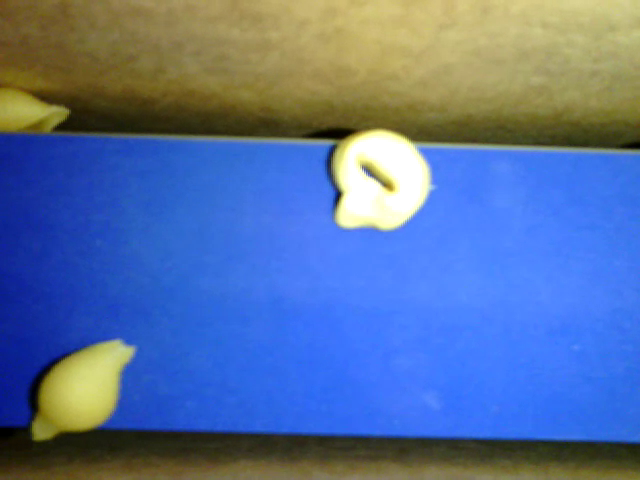shell: (25, 332, 148, 445), (2, 88, 77, 132)
tortellini: (329, 124, 434, 236)
